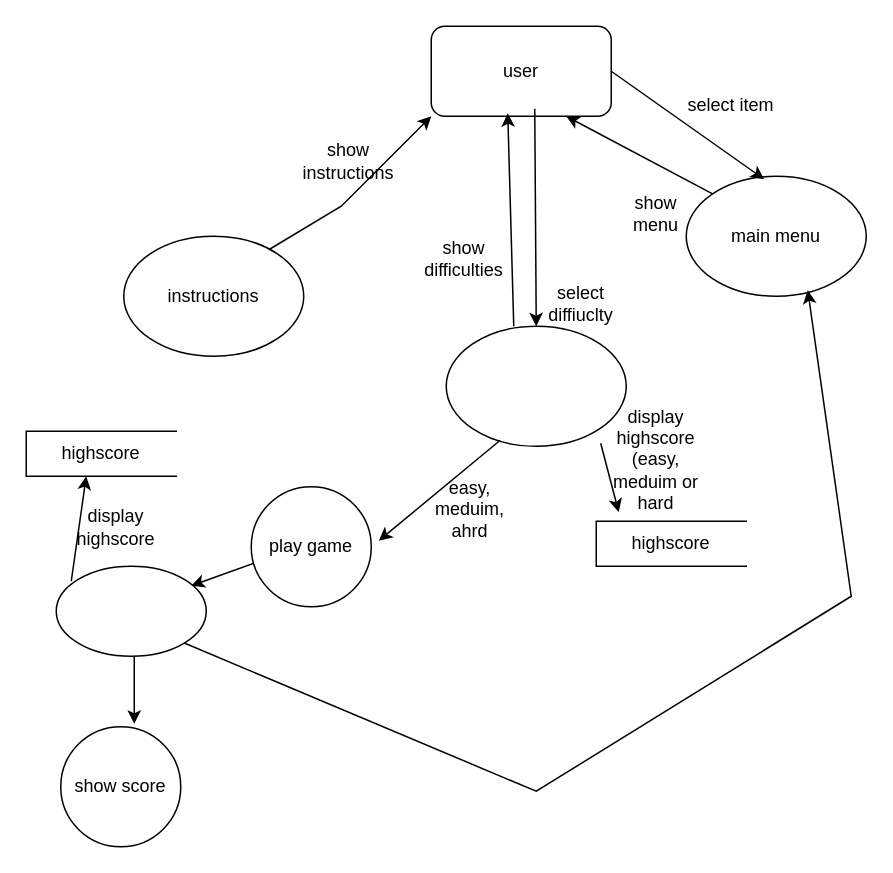
Some shapes in this 893 by 873 pixel diagram are drawn without their labels. The shapes that lost their labels are listed below. From the top down, each one's centre as x and y in pixels, then its label:
point 535,385: choose difficulty
point 130,610: game over
